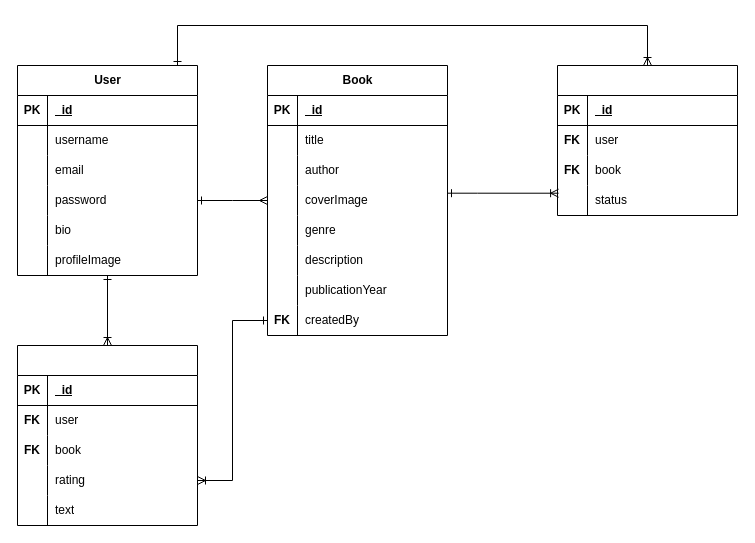
This 755x543 diagram has some shape labels left out. Here are the shapes that lost their labels. From the top down, the box of each, then its label:
(556, 64, 738, 216): Bookshelf
(16, 344, 198, 526): Review
